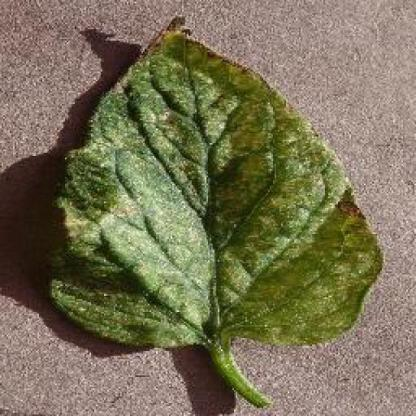Tomato_Spider_Mites: (52, 15, 383, 344)
